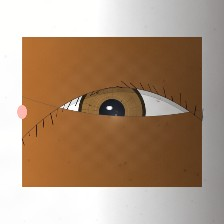hemorrhage_spot: (55, 98, 127, 155)
